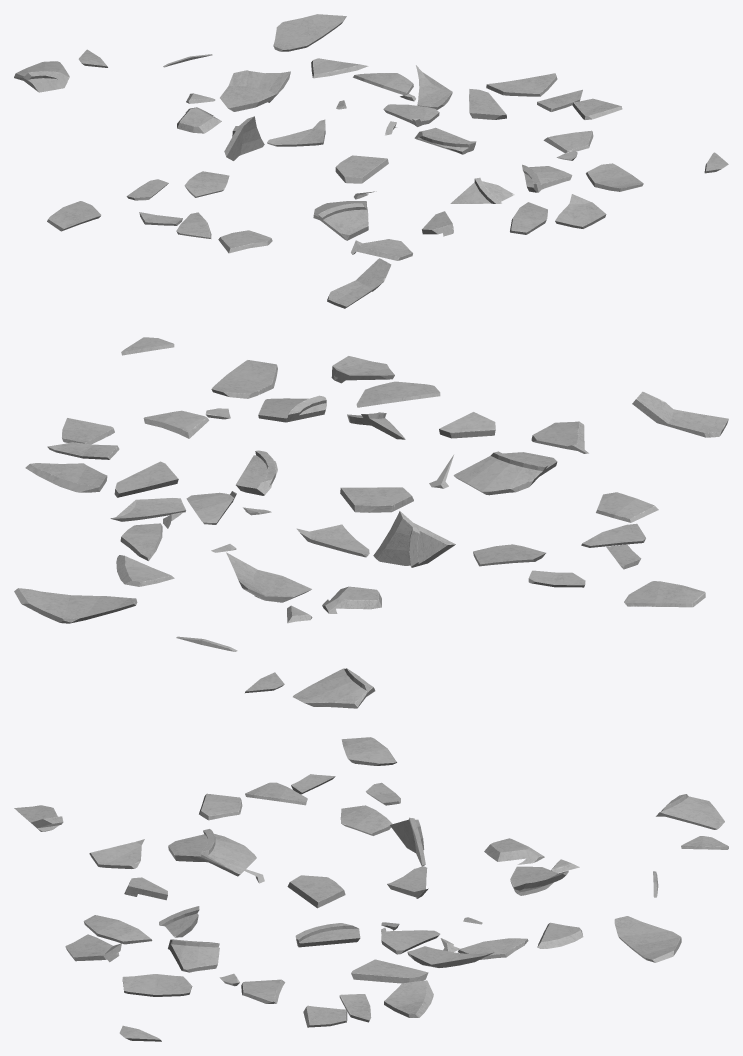
The model's file is ostraka.fbx.
3 renders of one model, top to bottom at view 1: azimuth 30°, elevation 25°; view 2: azimuth 150°, elevation 25°; view 3: azimuth 270°, elevation 25°, orthographic. The views are drawn at different scales.
Parts seen in each view (by area): view 1: ostraka; view 2: ostraka; view 3: ostraka.
Boxes of the visible parts, <box> form: ostraka: <box>14,14,728,308</box>; ostraka: <box>14,337,728,708</box>; ostraka: <box>14,737,728,1041</box>.
Size of the model in its own units: 49.27 by 3.23 by 49.32.
